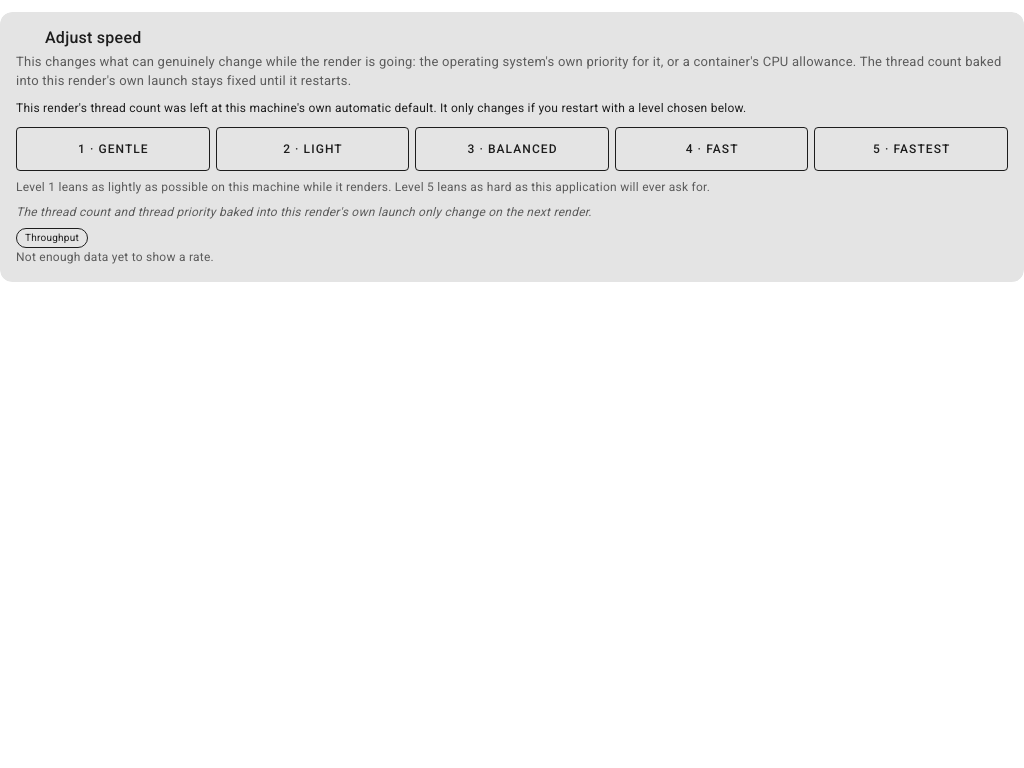
Test: a render on the local route › reports a blocked outcome honestly rather than pretending it applied
Click the button "3 · Balanced": [512, 149] box x1=415 y1=127 x2=609 y2=171
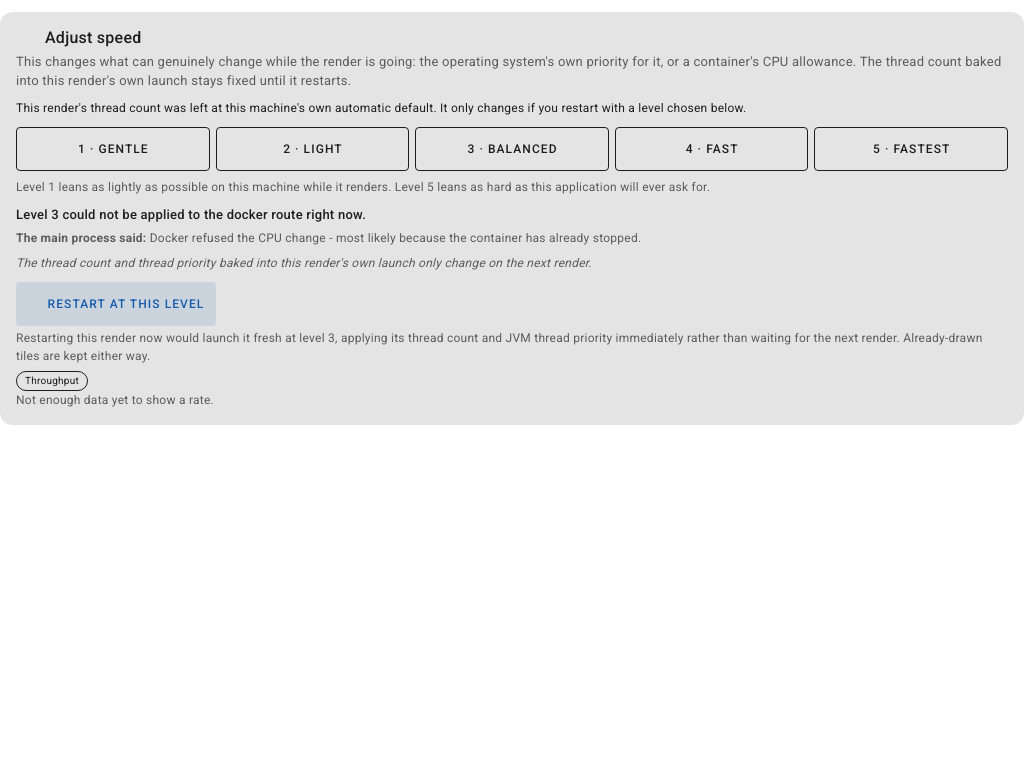
Result: the text "could not be applied" is shown at x1=16 y1=207 x2=366 y2=222
